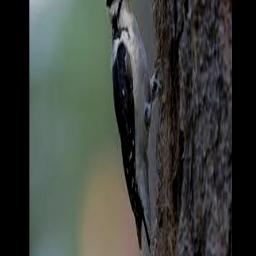Woodpecker: (97, 0, 161, 256)
